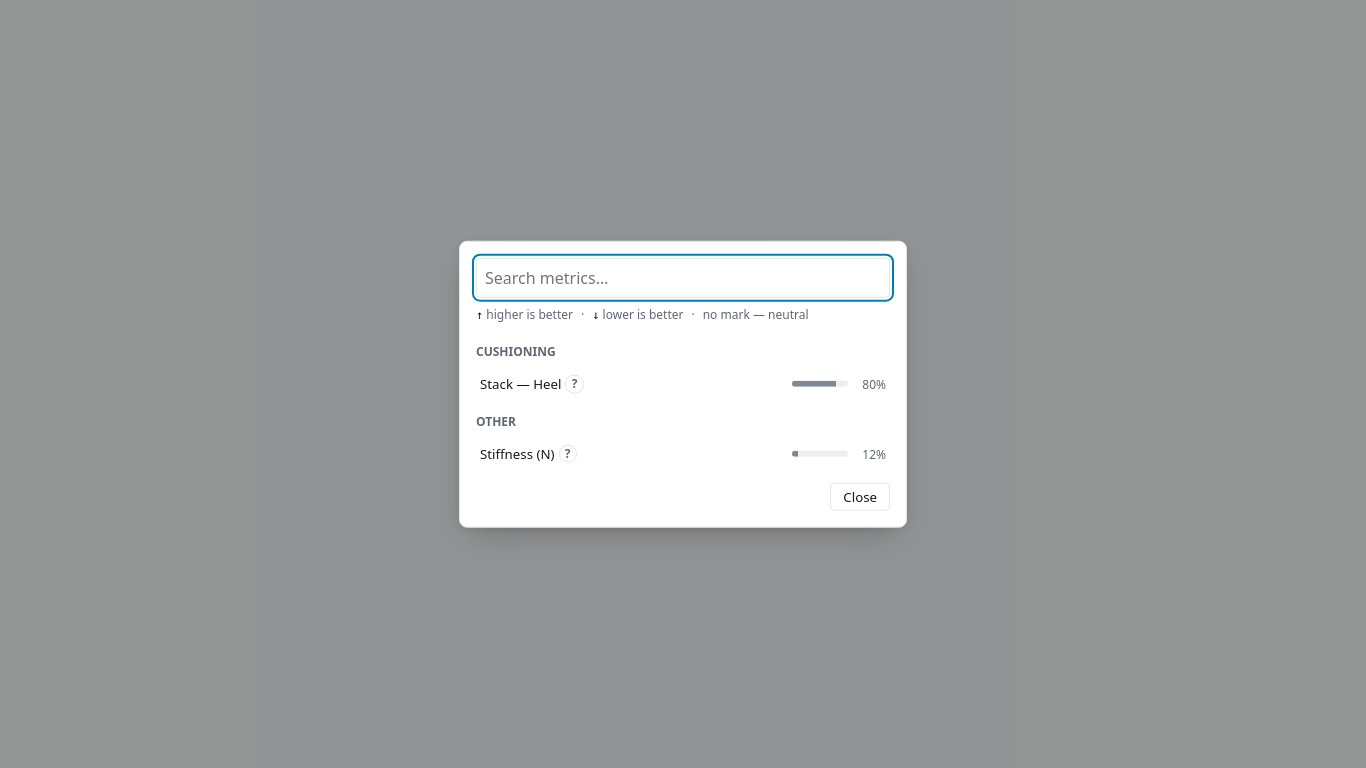
Test: AddFilterDialog › keeps add and help as sibling actions, with help isolated from selection
Click the button named "Help for Stack — Heel": (575, 384) [565,375,584,393]
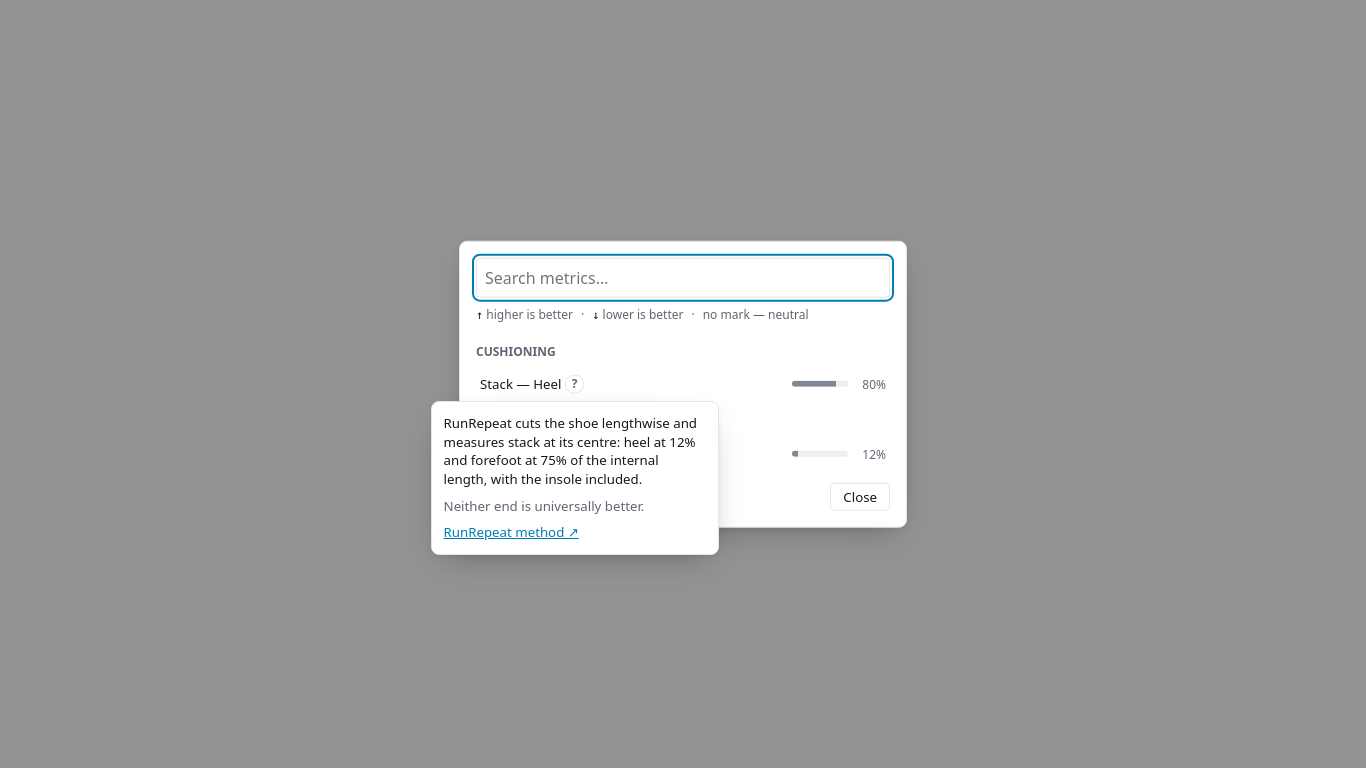
Check: the element named "Stack — Heel metric help" is shown, box [430,401,718,555]
